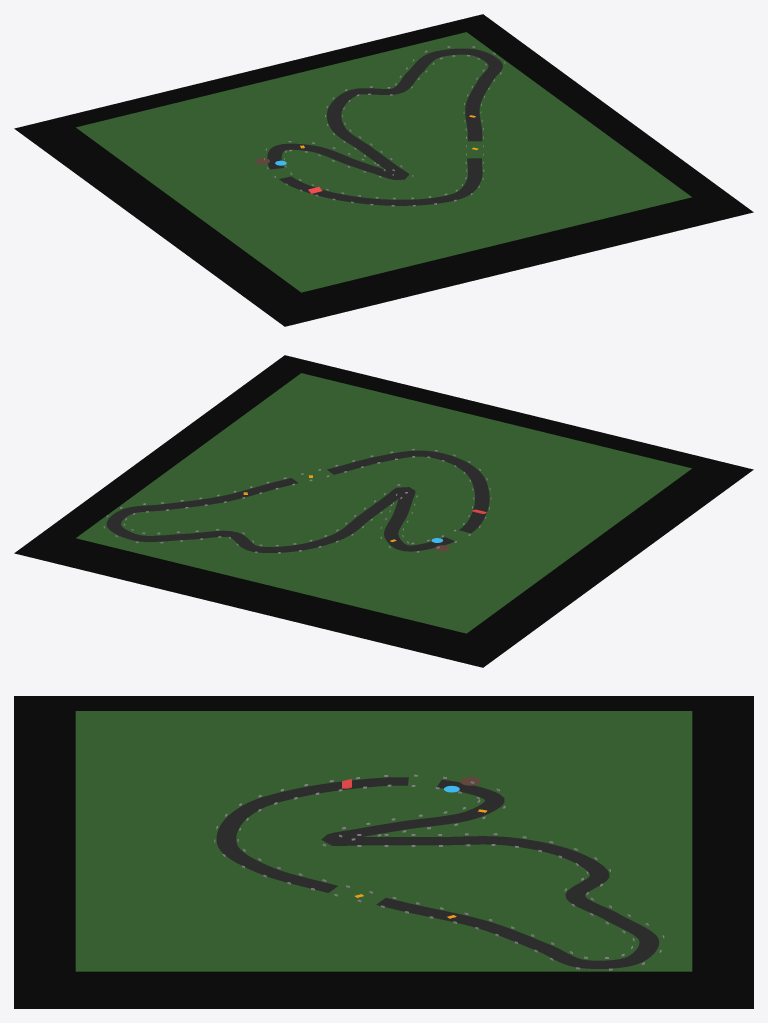
3 views of the same model, one above another, from view 1: azimuth 30°, elevation 25°; view 2: azimuth 150°, elevation 25°; view 3: azimuth 270°, elevation 25° (orthographic). The views are drawn at different scales.
Size of the model in its own units: 600 by 17.63 by 600.
